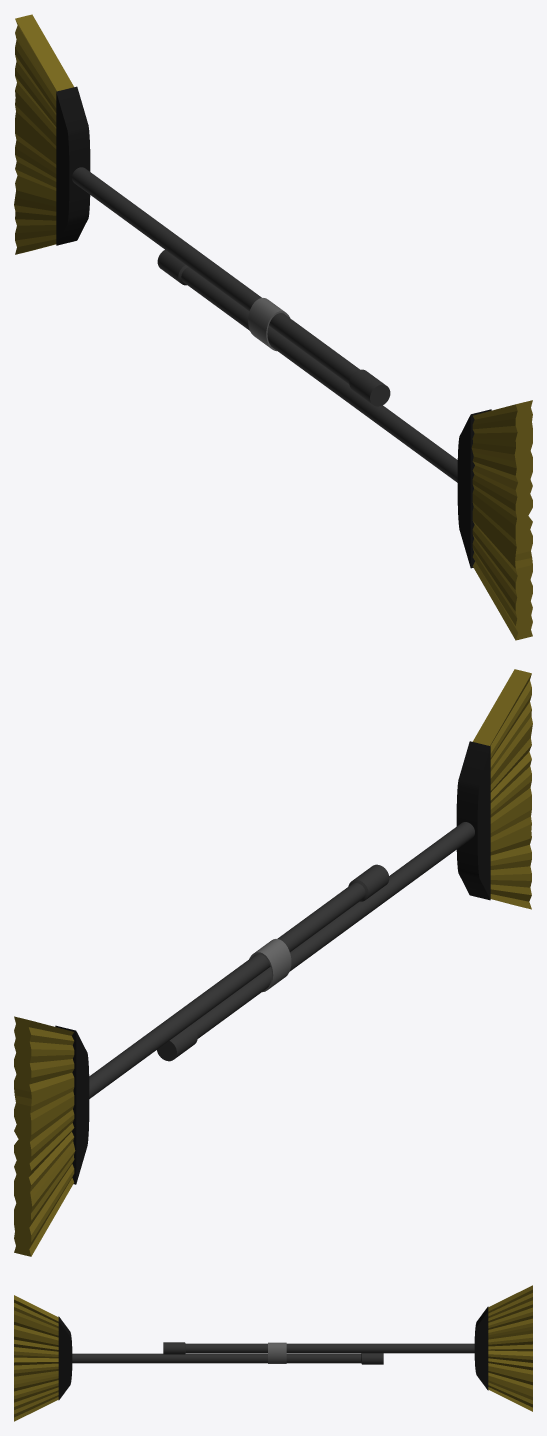
File: Combo Broom.fbx
3 renders of one model, top to bottom at view 1: azimuth 30°, elevation 25°; view 2: azimuth 150°, elevation 25°; view 3: azimuth 270°, elevation 25°, orthographic. The views are drawn at different scales.
Parts seen in each view (by area): view 1: Broom.001, Broom, BroomHandle, BroomHandle.001, BroomHead, BroomHead.001, Cylinder; view 2: Broom, Broom.001, BroomHandle, BroomHandle.001, BroomHead.001, BroomHead, Cylinder; view 3: Broom, Broom.001, BroomHandle, BroomHandle.001, BroomHead, BroomHead.001, Cylinder.
Boxes of the visible parts, x1,y1,x2,y2 form: Broom.001: (471, 400, 532, 640); Broom: (14, 14, 73, 254); BroomHandle: (72, 167, 390, 406); BroomHandle.001: (157, 250, 457, 482); BroomHead: (56, 86, 90, 245); BroomHead.001: (457, 409, 491, 568); Cylinder: (248, 298, 289, 351); Broom: (14, 1016, 75, 1256); Broom.001: (472, 669, 532, 909); BroomHandle: (89, 864, 389, 1098); BroomHandle.001: (157, 822, 474, 1061); BroomHead.001: (456, 741, 490, 900); BroomHead: (55, 1025, 89, 1184); Cylinder: (249, 939, 291, 992); Broom: (488, 1285, 532, 1411); Broom.001: (14, 1295, 58, 1421); BroomHandle: (163, 1342, 474, 1354); BroomHandle.001: (72, 1353, 383, 1364); BroomHead: (474, 1306, 488, 1390); BroomHead.001: (58, 1316, 72, 1400); Cylinder: (268, 1342, 286, 1363).
Size of the model in its own units: 29.58 by 277 by 986.
